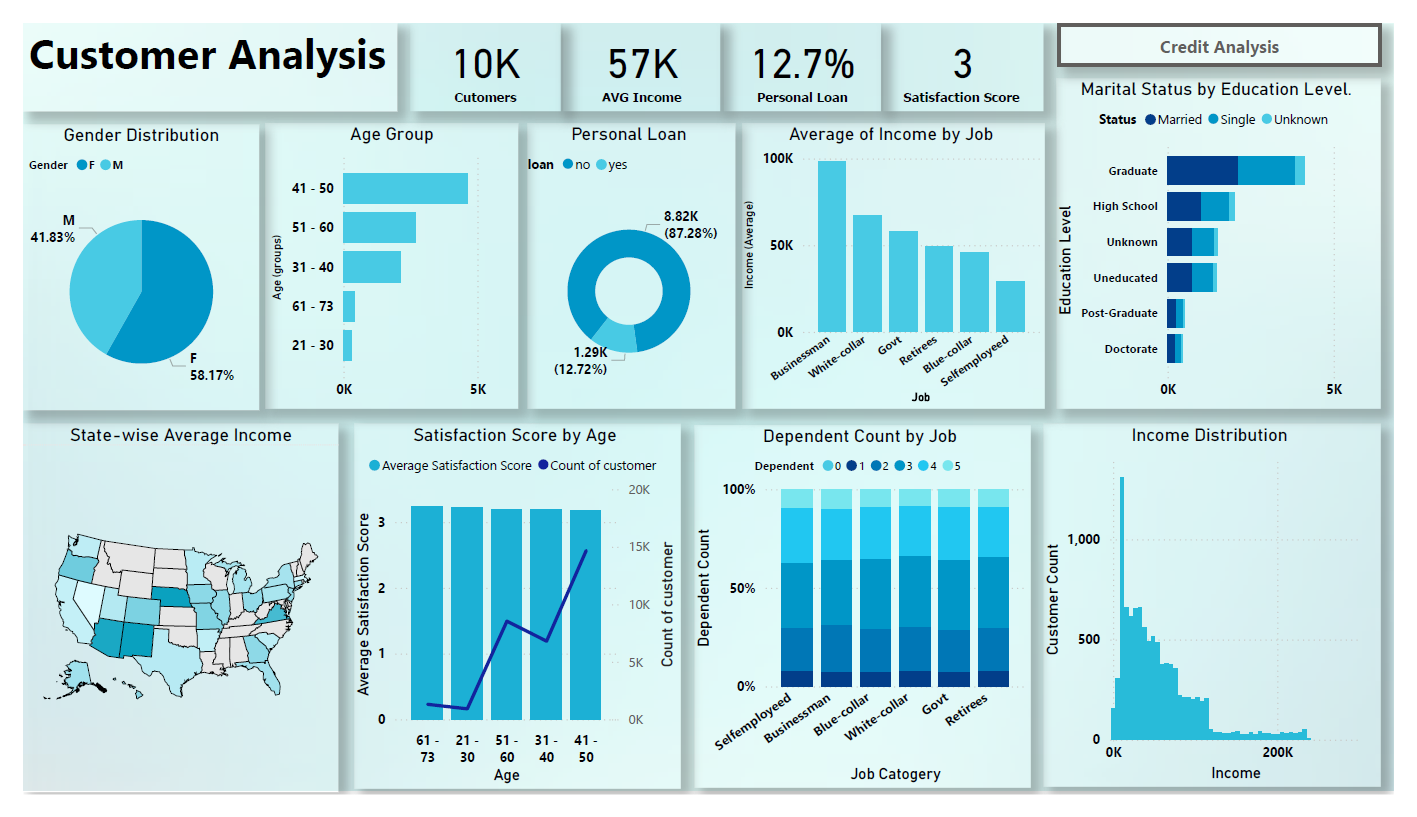

The dashboard page shown, as its layout file describes it:
{"tool":"powerbi","page":{"name":"Customer Analysis","canvas":[1280,720],"ordinal":1},"visuals":[{"type":"card","title":"Customers","fields":{"Values":["customer.Total_cutomers"]},"box":[361,0,141.2,82],"z":0},{"type":"textbox","title":"Customer Analysis","box":[0,0,348.5,82.3],"z":1000},{"type":"card","fields":{"Values":["customer.Ave_Cust_Satis_Sacore"]},"box":[803.5,0,149.6,82],"z":2000},{"type":"card","fields":{"Values":["customer.AVG_Income"]},"box":[504.3,0,147.2,82],"z":3000},{"type":"card","fields":{"Values":["customer.Personal_Loan_Percent"]},"box":[653.9,0,147.2,82],"z":4000},{"type":"pieChart","title":"Gender Distribution","fields":{"Category":["customer.Gender"],"Y":["CountNonNull(customer.Gender)"]},"box":[0,94.1,219.6,266.6],"z":5000},{"type":"clusteredBarChart","title":"Age Group","fields":{"Category":["customer.Customer_Age (groups)"],"Y":["CountNonNull(customer.Customer_Age (groups))"]},"box":[226.4,93.3,236,266.2],"z":6000},{"type":"barChart","title":"Marital Status by Education Level.","fields":{"Category":["customer.Education_Level"],"Y":["CountNonNull(customer.Marital_Status)"],"Series":["customer.Marital_Status"]},"box":[965.2,50.7,302.8,308.8],"z":7000},{"type":"clusteredColumnChart","title":"Income Distribution","fields":{"Category":["customer.Income (bins)"],"Y":["CountNonNull(customer.Client_Num)"]},"box":[953.1,374,314.9,339],"z":8000},{"type":"shapeMap","title":"State-wise Average Income","fields":{"Category":["customer.state_cd"],"Value":["Avg(customer.Income)"]},"box":[0,374,294.4,343.8],"z":9000},{"type":"lineStackedColumnComboChart","title":"Satisfaction Score by Age","fields":{"Category":["customer.Customer_Age (groups)"],"Y":["Avg(customer.Cust_Satisfaction_Score)"],"Y2":["Sum(customer.Cust_Satisfaction_Score)"]},"box":[308.8,374,305,341.4],"z":10000},{"type":"donutChart","title":"Personal Loan","fields":{"Category":["customer.Personal_loan"],"Y":["CountNonNull(customer.Client_Num)"]},"box":[471,93.3,194,266.2],"z":11000},{"type":"hundredPercentStackedColumnChart","title":"Dependent Count by Job","fields":{"Category":["customer.Customer_Job"],"Y":["Sum(customer.Dependent_Count)"],"Series":["customer.Dependent_Count"]},"box":[627.3,375.2,313.7,339],"z":12000},{"type":"clusteredColumnChart","title":"Average of Income by Job","fields":{"Y":["Avg(customer.Income)"],"Category":["customer.Customer_Job"]},"box":[672.4,93.3,281.3,266.2],"z":13000},{"type":"actionButton","box":[965.6,0,303.1,40.5],"z":15000}]}

Visuals, with their boxes in screenshot pixels (x1, y1, x2, y2), scaled from the page's 1280x720 canvas onto the 1417x817 screenshot:
"Customers" card: left=400, top=0, right=556, bottom=93
"Customer Analysis" textbox: left=0, top=0, right=386, bottom=93
card - customer.Ave_Cust_Satis_Sacore: left=889, top=0, right=1055, bottom=93
card - customer.AVG_Income: left=558, top=0, right=721, bottom=93
card - customer.Personal_Loan_Percent: left=724, top=0, right=887, bottom=93
"Gender Distribution" pieChart: left=0, top=107, right=243, bottom=409
"Age Group" clusteredBarChart: left=251, top=106, right=512, bottom=408
"Marital Status by Education Level." barChart: left=1069, top=58, right=1404, bottom=408
"Income Distribution" clusteredColumnChart: left=1055, top=424, right=1404, bottom=809
"State-wise Average Income" shapeMap: left=0, top=424, right=326, bottom=815
"Satisfaction Score by Age" lineStackedColumnComboChart: left=342, top=424, right=679, bottom=812
"Personal Loan" donutChart: left=521, top=106, right=736, bottom=408
"Dependent Count by Job" hundredPercentStackedColumnChart: left=694, top=426, right=1042, bottom=810
"Average of Income by Job" clusteredColumnChart: left=744, top=106, right=1056, bottom=408
actionButton: left=1069, top=0, right=1404, bottom=46
